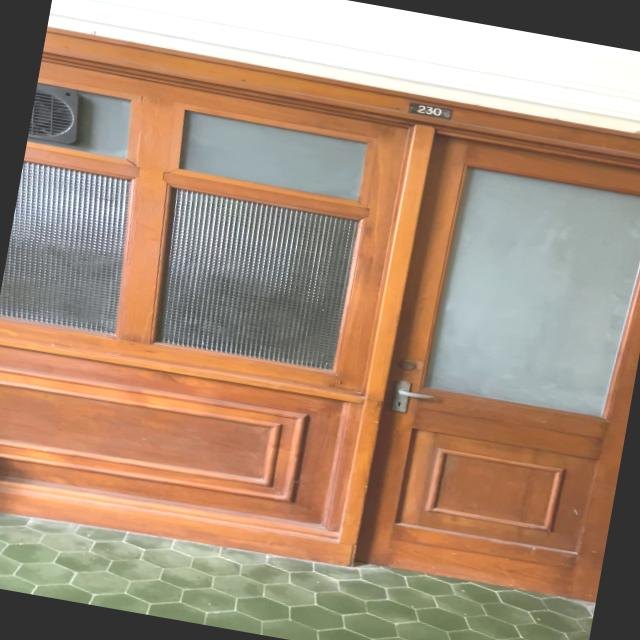room230: (404, 100, 456, 122)
